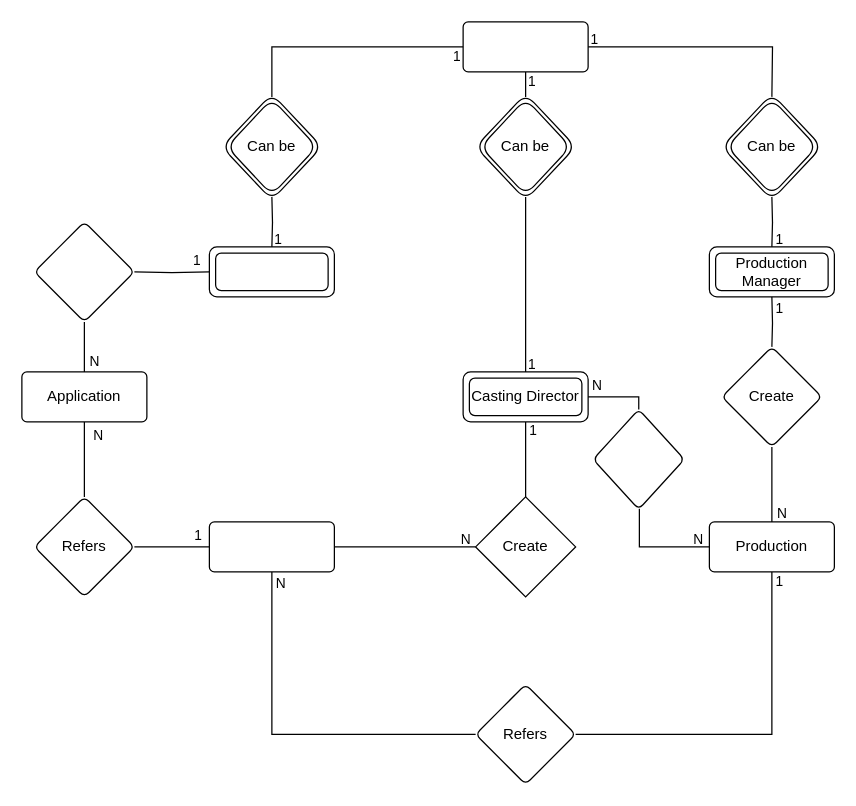
Some shapes in this 856 by 806 pixel diagram are drawn without their labels. The shapes that lost their labels are listed below. From the top down, each one's box as (x1, y1, x2, y2) in pixels, then its label:
(462, 21, 588, 72): User
(33, 221, 134, 322): Send
(208, 246, 334, 297): Performer
(592, 408, 684, 509): Assigned
(208, 521, 334, 572): Casting
